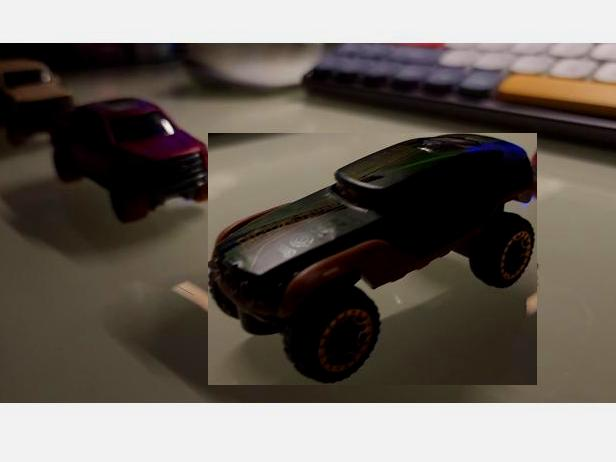toy-car: (208, 134, 537, 386), (47, 95, 213, 223), (0, 58, 73, 146)
